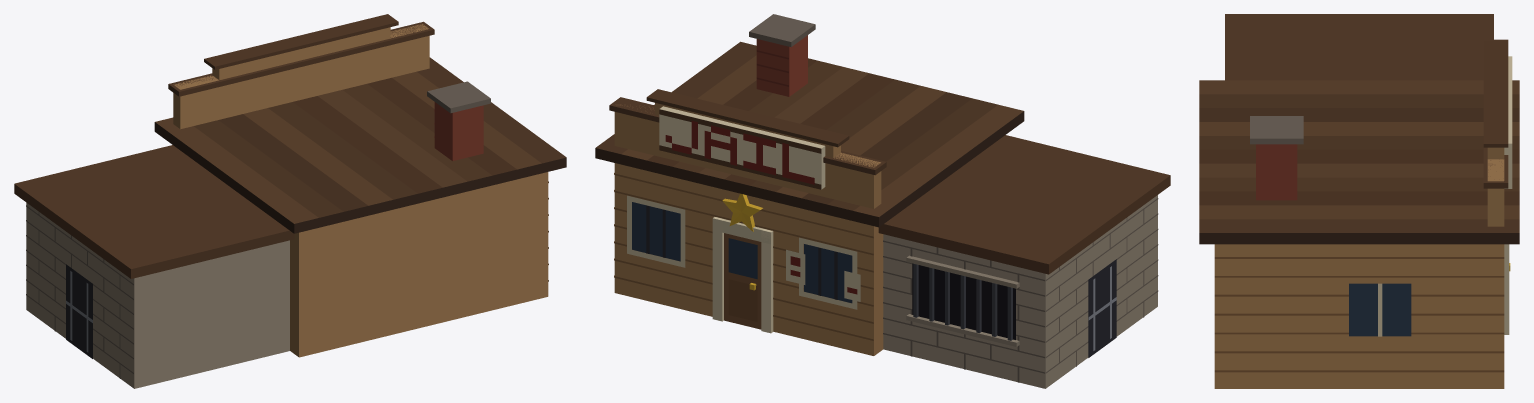
File: Decor_WesternSaloon_Jail.fbx
3 views of the same model, side by side, from view 1: azimuth 30°, elevation 25°; view 2: azimuth 150°, elevation 25°; view 3: azimuth 270°, elevation 25° (orthographic). The views are drawn at different scales.
Visible parts, largest first — view 1: Jail_Body; view 2: Jail_Body; view 3: Jail_Body.
Part boxes in pixels (x1=…): Jail_Body: x1=14, y1=14, x2=566, y2=388; Jail_Body: x1=595, y1=14, x2=1170, y2=388; Jail_Body: x1=1199, y1=14, x2=1519, y2=388.
Size of the model in its own units: 27.25 by 12.1 by 15.5.
